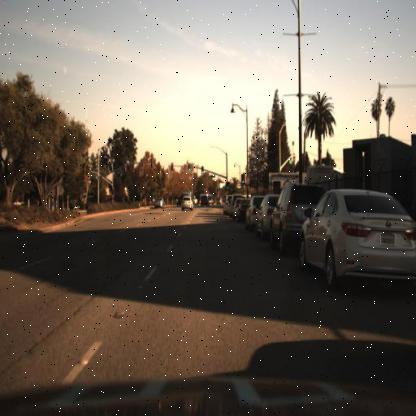car: (298, 187, 415, 293), (268, 179, 330, 252), (254, 185, 272, 241), (180, 194, 194, 214), (152, 194, 166, 212), (198, 193, 212, 209)
trafficLight-Green: (240, 174, 248, 188), (224, 182, 229, 194), (200, 167, 205, 178), (187, 166, 192, 176)
trafficLight-RedLeft: (168, 161, 175, 171)
